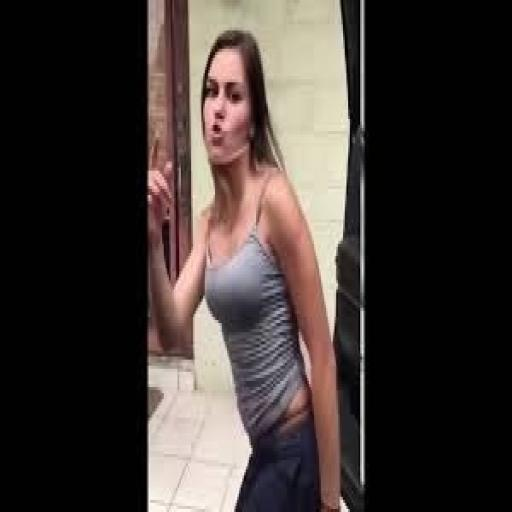dancing: (147, 24, 343, 509)
